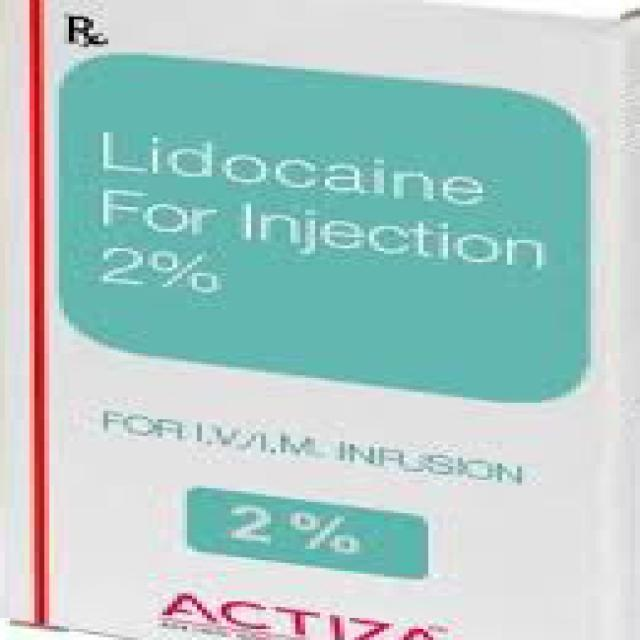drug-name: (86, 126, 508, 217)
